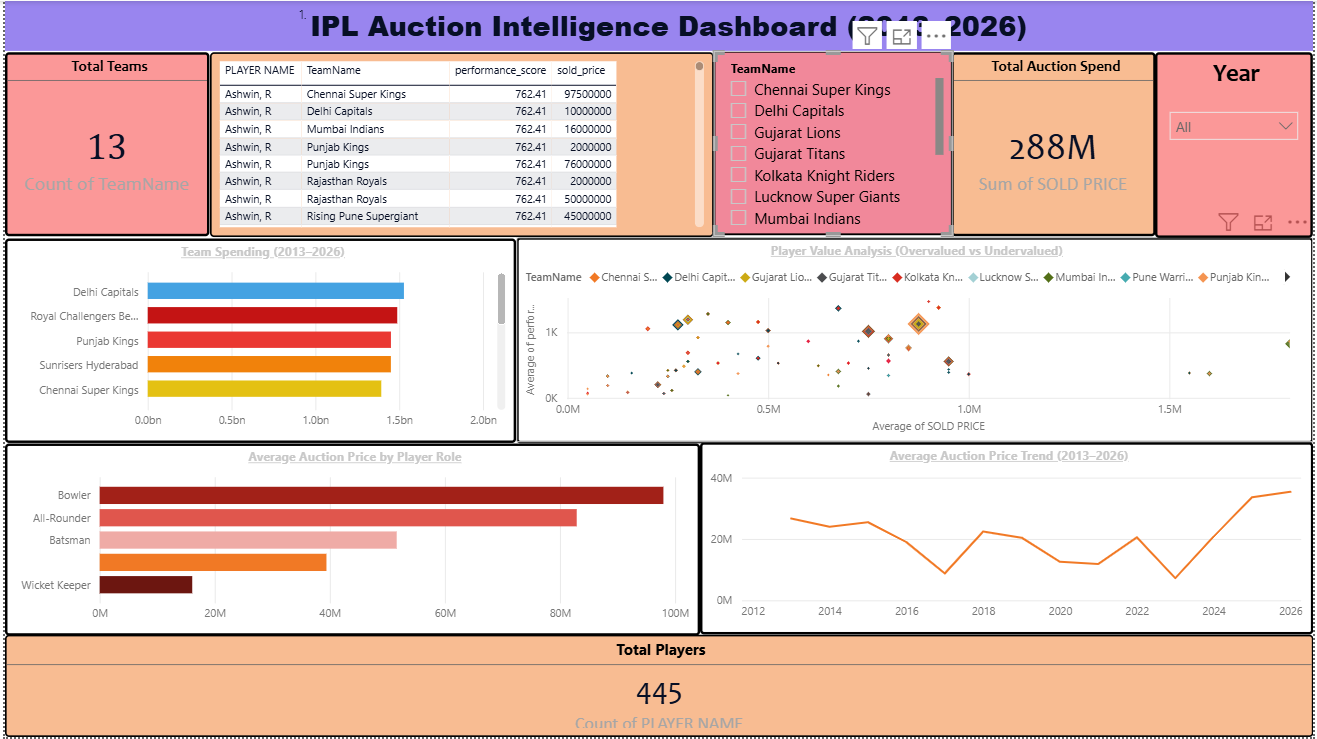

The dashboard page shown, as its layout file describes it:
{"tool":"powerbi","page":{"name":"Page 1","canvas":[1280,720],"ordinal":0},"visuals":[{"type":"card","title":"Total Players","fields":{"Values":["CountNonNull(IPL_Auction_Intelligence_Final (1).PLAYER NAME)"]},"box":[0,620,1280,100],"z":0},{"type":"card","title":"Total Auction Spend","fields":{"Values":["Sum(IPL_Auction_Intelligence_Final (1).SOLD PRICE)"]},"box":[925.3,50.7,200,180],"z":1000},{"type":"card","title":"Total Teams","fields":{"Values":["Count(IPL_Auction_Intelligence_Final (1).TeamName)"]},"box":[0,50.7,200,180],"z":2000},{"type":"clusteredBarChart","title":"Team Spending (2013–2026)","fields":{"Category":["IPL_Auction_Intelligence_Final (1).TeamName"],"Y":["Sum(IPL_Auction_Intelligence_Final (1).sold_price)"]},"box":[0,232,500,200],"z":3000},{"type":"lineChart","title":"Average Auction Price Trend (2013–2026)","fields":{"Y":["Avg(IPL_Auction_Intelligence_Final (1).sold_price)"],"Category":["IPL_Auction_Intelligence_Final (1).year"]},"box":[680,432,600,188],"z":4000},{"type":"clusteredBarChart","title":"Average Auction Price by Player Role","fields":{"Category":["IPL_Auction_Intelligence_Final (1).Role"],"Y":["Sum(IPL_Auction_Intelligence_Final (1).SOLD PRICE)"]},"box":[0,432.9,679.9,188.3],"z":5000},{"type":"scatterChart","title":"Player Value Analysis (Overvalued vs Undervalued)","fields":{"X":["Avg(IPL_Auction_Intelligence_Final (1).SOLD PRICE)"],"Y":["Avg(IPL_Auction_Intelligence_Final (1).performance_score)"],"Series":["IPL_Auction_Intelligence_Final (1).TeamName"],"Category":["IPL_Auction_Intelligence_Final (1).PLAYER NAME"],"Size":["Sum(IPL_Auction_Intelligence_Final (1).value_index)"]},"box":[500,230.7,780,201.3],"z":6000},{"type":"slicer","title":"Year","fields":{"Values":["IPL_Auction_Intelligence_Final (1).year"]},"box":[1125.3,50.7,154.7,181.3],"z":7000},{"type":"slicer","fields":{"Values":["IPL_Auction_Intelligence_Final (1).TeamName"]},"box":[693.3,49.3,233.3,180],"z":8000},{"type":"textbox","box":[0,0,1280.3,48.9],"z":9000},{"type":"tableEx","fields":{"Values":["IPL_Auction_Intelligence_Final (1).PLAYER NAME","IPL_Auction_Intelligence_Final (1).TeamName","IPL_Auction_Intelligence_Final (1).performance_score","IPL_Auction_Intelligence_Final (1).sold_price"]},"box":[200.5,50.1,492.8,181],"z":10000}]}

Visuals, with their boxes in screenshot pixels (x1, y1, x2, y2), scaled from the page's 1280x720 canvas onto the 1317x739 screenshot:
"Total Players" card: 0,636,1316,738
"Total Auction Spend" card: 952,52,1158,237
"Total Teams" card: 0,52,206,237
"Team Spending (2013–2026)" clusteredBarChart: 0,238,514,443
"Average Auction Price Trend (2013–2026)" lineChart: 700,443,1316,636
"Average Auction Price by Player Role" clusteredBarChart: 0,444,700,638
"Player Value Analysis (Overvalued vs Undervalued)" scatterChart: 514,237,1316,443
"Year" slicer: 1158,52,1316,238
slicer - IPL_Auction_Intelligence_Final (1).TeamName: 713,51,953,235
textbox: 0,0,1316,50
tableEx - IPL_Auction_Intelligence_Final (1).PLAYER NAME x IPL_Auction_Intelligence_Final (1).TeamName: 206,51,713,237
